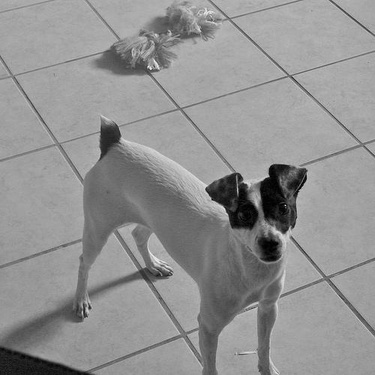dog: (52, 105, 315, 373)
